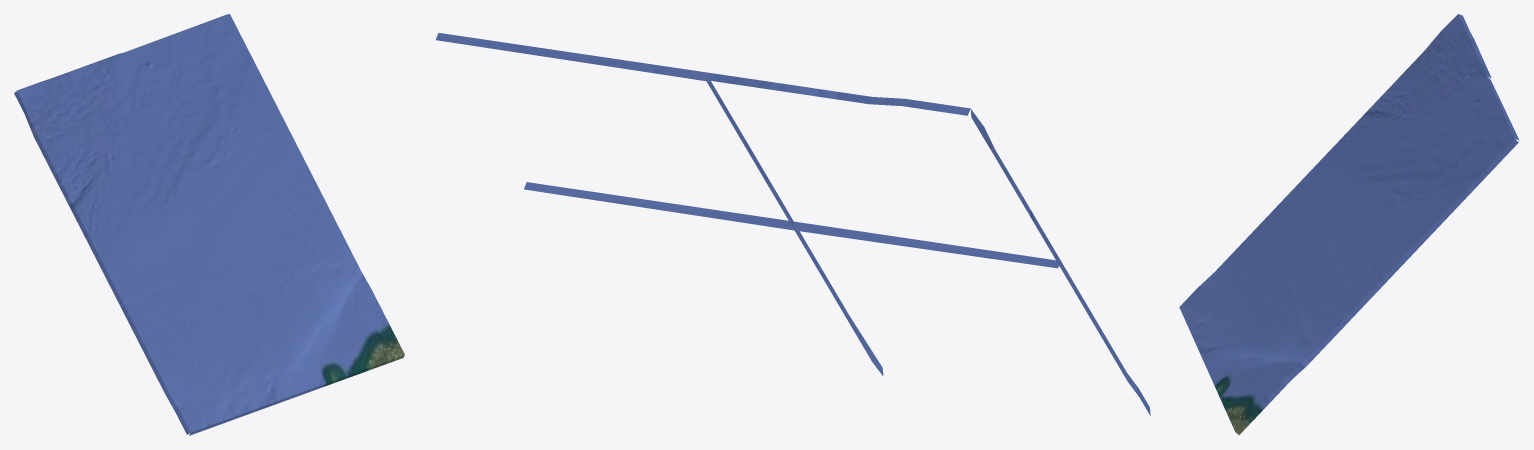
Rendered from AJVsH2xwZwEij292EXBraJ1ZJW6a7Myvqs7VPJ8ISeVmuo2gRAS5iB7hIawY4GRTlIivC0jUQItqO2slci8Rt9RqiRMaYtV4PEKncqwVJUQzhoiUcqUfBdK_2Pn5mA3WMnDrA4BqfF2S7PHI39YxpeU.glb.
3 views of the same model, side by side, from view 1: azimuth 30°, elevation 25°; view 2: azimuth 150°, elevation 25°; view 3: azimuth 270°, elevation 25° (orthographic). The views are drawn at different scales.
Bounding box in the file's own units: 33314 × 28994 × 32432.
Materials: 1 (1 with a texture image).
